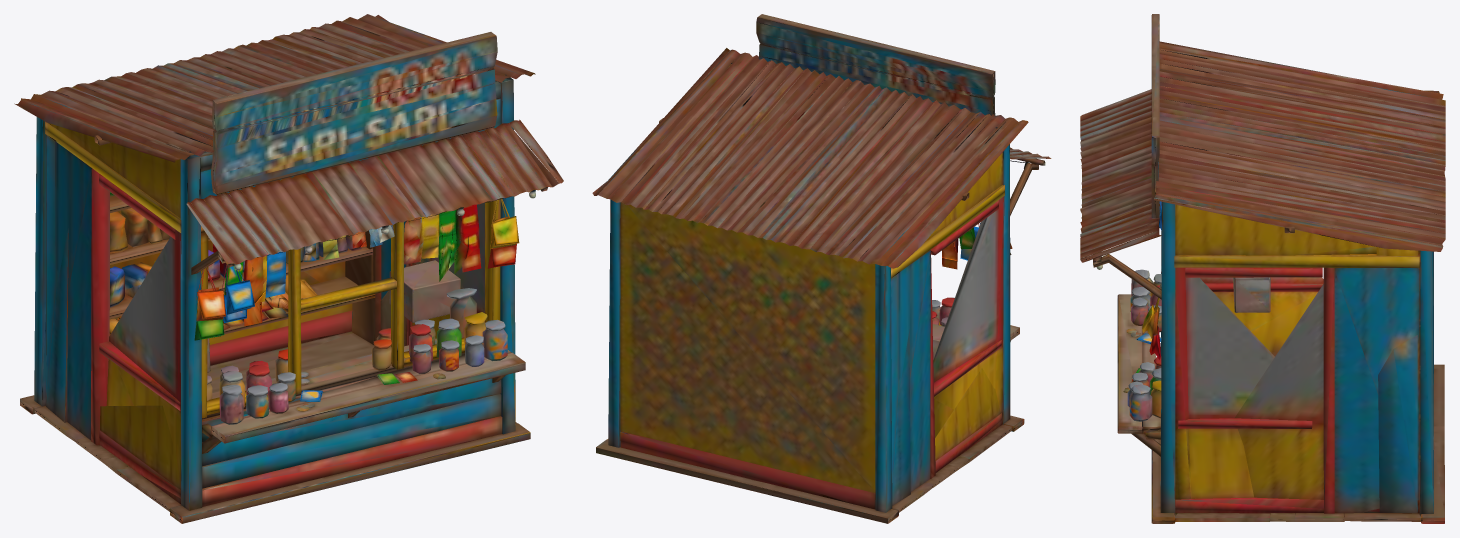
Rendered from sari-sari.glb.
3 renders of one model, left to right at view 1: azimuth 30°, elevation 25°; view 2: azimuth 150°, elevation 25°; view 3: azimuth 270°, elevation 25°, orthographic. The views are drawn at different scales.
Visible parts, largest first — view 1: geometry_0; view 2: geometry_0; view 3: geometry_0.
Boxes of the visible parts, box(x1,y1,x2,y2) form: geometry_0: box(14, 14, 563, 523); geometry_0: box(592, 14, 1051, 523); geometry_0: box(1080, 14, 1445, 523).
Bounding box in the file's own units: 0.878 × 0.9492 × 0.8447.
1 material, 1 textured.
